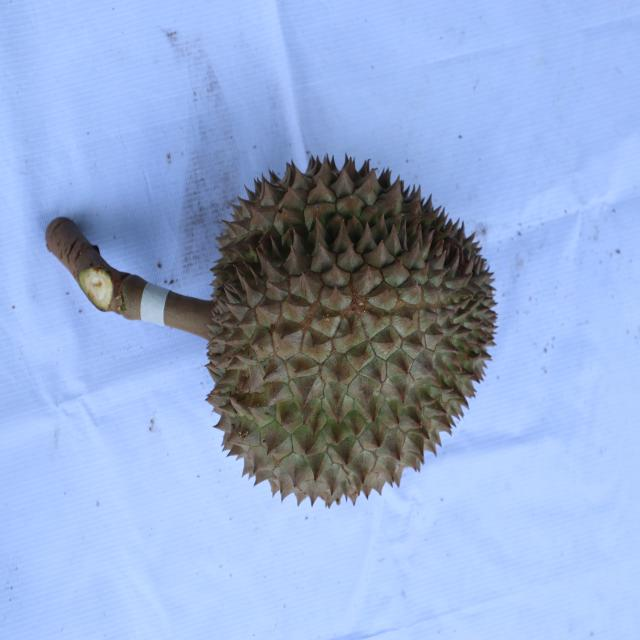mature: (207, 152, 502, 510)
